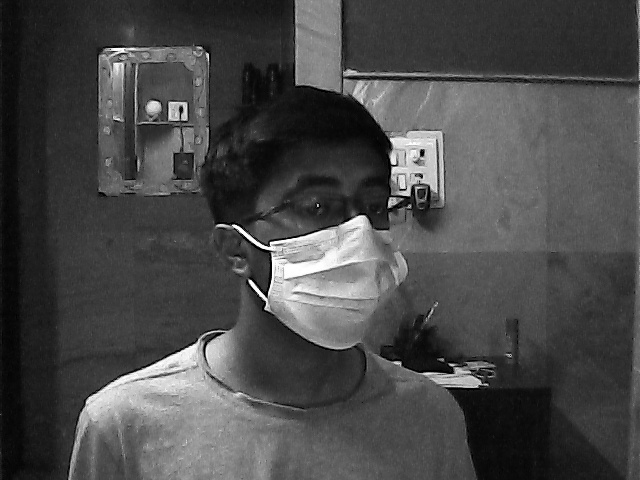mask: (231, 162, 402, 356)
